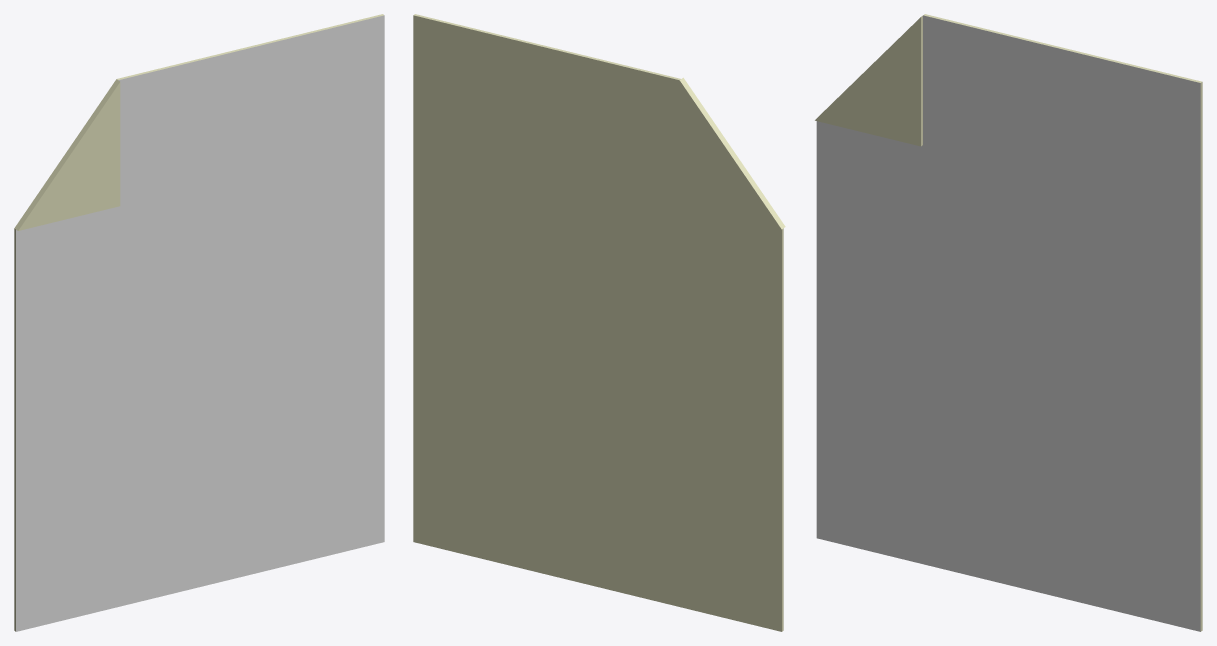
The model's file is poster-micron.fbx.
3 renders of one model, left to right at view 1: azimuth 30°, elevation 25°; view 2: azimuth 150°, elevation 25°; view 3: azimuth 330°, elevation 25°, orthographic. The views are drawn at different scales.
Parts seen in each view (by area): view 1: Plane; view 2: Plane; view 3: Plane.
Part boxes in pixels (bbox=[...]): Plane: bbox=[14, 14, 384, 631]; Plane: bbox=[413, 14, 785, 631]; Plane: bbox=[815, 14, 1202, 631].
Bounding box in the file's own units: 200 × 273 × 3.57.
